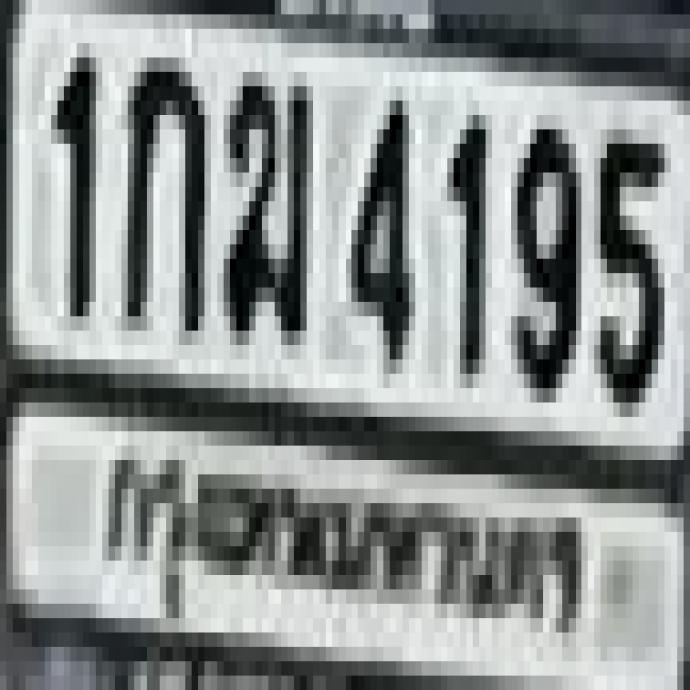1: (49, 45, 90, 310), (442, 102, 482, 367)
4: (346, 87, 406, 356)
5: (592, 120, 659, 399)
9: (507, 113, 574, 386)
A01: (120, 46, 201, 319)
A06: (219, 64, 306, 329)
BKK: (88, 424, 595, 651)
